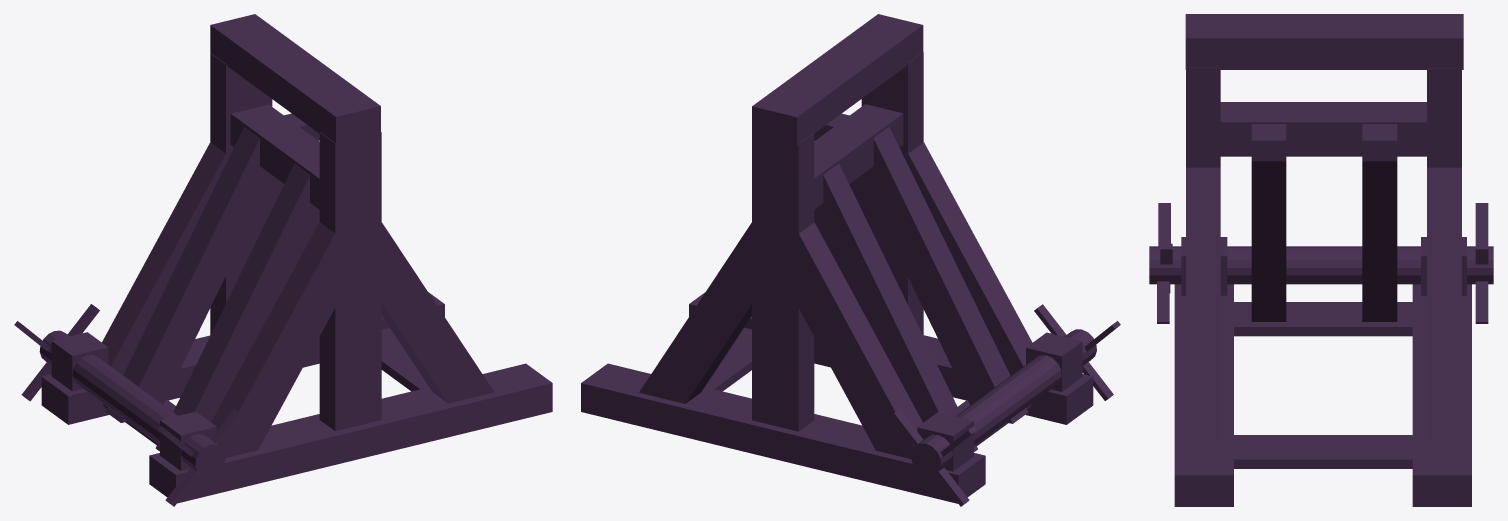
File: Catapulta.fbx
3 renders of one model, left to right at view 1: azimuth 30°, elevation 25°; view 2: azimuth 150°, elevation 25°; view 3: azimuth 270°, elevation 25°, orthographic. The views are drawn at different scales.
Visible parts, largest first — view 1: Cube.001, Cube.009, Cube.022, Cube.008, Cube.023, Cube.011, Cube.007, Cube.005, Cylinder, Cube.004, Cube.010, Cube.002 (+3 smaller); view 2: Cube.002, Cube.004, Cube.023, Cube.005, Cube.022, Cube.011, Cube.006, Cube.008, Cylinder, Cube.009, Cube.010, Cube.001 (+3 smaller); view 3: Cube.011, Cube.007, Cube.006, Cube.010, Cube.001, Cube.002, Cube.023, Cube.022, Cylinder, Cube.003, Cube, Cube.009 (+7 smaller).
Boxes of the visible parts, left/top/right/bottom form: Cube.001: left=149, top=363, right=552, bottom=503; Cube.009: left=319, top=132, right=381, bottom=431; Cube.022: left=105, top=113, right=319, bottom=422; Cube.008: left=211, top=222, right=343, bottom=457; Cube.023: left=155, top=163, right=319, bottom=451; Cube.011: left=210, top=14, right=380, bottom=145; Cube.007: left=336, top=222, right=494, bottom=403; Cube.005: left=102, top=142, right=225, bottom=374; Cylinder: left=39, top=330, right=225, bottom=476; Cube.004: left=210, top=53, right=272, bottom=335; Cube.010: left=230, top=104, right=319, bottom=209; Cube.002: left=41, top=292, right=444, bottom=424; Cube.002: left=581, top=363, right=985, bottom=503; Cube.004: left=752, top=133, right=814, bottom=431; Cube.023: left=814, top=113, right=1028, bottom=423; Cube.005: left=753, top=222, right=922, bottom=458; Cube.022: left=814, top=164, right=977, bottom=451; Cube.011: left=752, top=14, right=923, bottom=145; Cube.006: left=639, top=222, right=751, bottom=403; Cube.008: left=903, top=142, right=1032, bottom=375; Cylinder: left=911, top=329, right=1096, bottom=475; Cube.009: left=861, top=52, right=923, bottom=336; Cube.010: left=814, top=104, right=903, bottom=209; Cube.001: left=689, top=292, right=1093, bottom=424; Cube.011: left=1185, top=14, right=1463, bottom=69; Cube.007: left=1186, top=167, right=1220, bottom=446; Cube.006: left=1427, top=167, right=1461, bottom=446; Cube.010: left=1220, top=102, right=1426, bottom=156; Cube.001: left=1174, top=284, right=1233, bottom=506; Cube.002: left=1412, top=284, right=1471, bottom=506; Cube.023: left=1251, top=124, right=1286, bottom=321; Cube.022: left=1362, top=124, right=1397, bottom=321; Cylinder: left=1149, top=246, right=1493, bottom=284; Cube.003: left=1234, top=435, right=1412, bottom=468; Cube: left=1234, top=302, right=1412, bottom=336; Cube.009: left=1186, top=67, right=1220, bottom=167.
Bounding box in the file's own units: 139 × 115 × 94.73.
